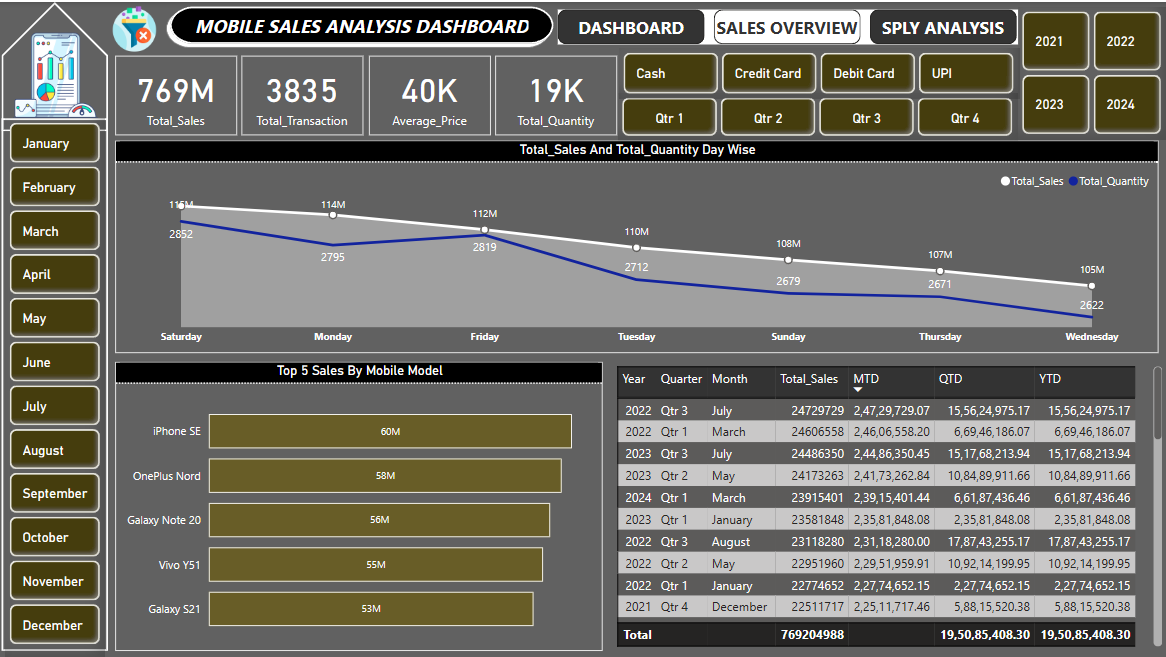

The page's visual inventory and layout, read from the dashboard file:
{"tool":"powerbi","page":{"name":"SALES OVERVIEW","canvas":[1280,720],"ordinal":1},"visuals":[{"type":"shape","box":[181.7,0,430.9,50.9],"z":0},{"type":"card","fields":{"Values":["Mobile_Sales_Data.Total_Sales"]},"box":[128,59.2,133.6,86.9],"z":1000,"group":"g1"},{"type":"shape","box":[2.8,128,116.9,584.3],"z":1000},{"type":"shape","box":[2.8,0,116.9,141.9],"z":2000},{"type":"card","fields":{"Values":["Mobile_Sales_Data.Total_Transaction"]},"box":[267.1,59.2,133.6,86.9],"z":2000,"group":"g1"},{"type":"image","box":[7,27.8,109.9,105.7],"z":3000},{"type":"card","fields":{"Values":["Mobile_Sales_Data.Average_Sales"]},"box":[406.3,59.2,133.6,86.9],"z":3000,"group":"g1"},{"type":"group","id":"g1","title":"Group 1","box":[128,59.2,550.7,86],"z":4000},{"type":"card","fields":{"Values":["Mobile_Sales_Data.Total_Quantity"]},"box":[545.4,59.2,133.6,86.9],"z":4000,"group":"g1"},{"type":"advancedSlicerVisual","fields":{"Values":["Custom_Calender.Date.Variation.Date Hierarchy.Month"]},"box":[6.9,127.6,109.8,592.8],"z":5000},{"type":"advancedSlicerVisual","fields":{"Values":["Custom_Calender.Date.Variation.Date Hierarchy.Quarter"]},"box":[678.7,100.5,439.1,52.3],"z":6000},{"type":"lineChart","title":"Total_Sales And Total_Quantity Day Wise","fields":{"Y":["Mobile_Sales_Data.Total_Sales"],"Category":["Custom_Calender.Day Name"],"Y2":["Mobile_Sales_Data.Total_Quantity"]},"box":[128,152.8,1144,232.7],"z":7000},{"type":"advancedSlicerVisual","fields":{"Values":["Mobile_Sales_Data.Payment Method"]},"box":[680.1,50.9,439.1,55.1],"z":8000},{"type":"advancedSlicerVisual","fields":{"Values":["Custom_Calender.Date.Variation.Date Hierarchy.Year"]},"box":[1116.9,5.5,163.1,145.3],"z":9000},{"type":"barChart","title":"Top 5 Sales By Mobile Model","fields":{"Y":["Mobile_Sales_Data.Total_Sales"],"Category":["Mobile_Sales_Data.Mobile Model"]},"box":[127.5,394.8,534.6,316.6],"z":10000},{"type":"image","box":[117,0,64.7,59.2],"z":11000},{"type":"tableEx","fields":{"Values":["Custom_Calender.Date.Variation.Date Hierarchy.Year","Custom_Calender.Date.Variation.Date Hierarchy.Quarter","Custom_Calender.Date.Variation.Date Hierarchy.Month","Mobile_Sales_Data.Total_Sales","Mobile_Sales_Data.MTD","Mobile_Sales_Data.QTD","Mobile_Sales_Data.YTD"]},"box":[671.7,394.8,608.6,316.6],"z":12000},{"type":"pageNavigator","box":[612.7,8.2,504.4,38.4],"z":13000}]}

Visuals, with their boxes in screenshot pixels (x1, y1, x2, y2), scaled from the page's 1280x720 canvas onto the 1166x657 screenshot:
shape: crop(166, 0, 558, 46)
card - Mobile_Sales_Data.Total_Sales: crop(117, 54, 238, 133)
shape: crop(3, 117, 109, 650)
shape: crop(3, 0, 109, 129)
card - Mobile_Sales_Data.Total_Transaction: crop(243, 54, 365, 133)
image: crop(6, 25, 106, 122)
card - Mobile_Sales_Data.Average_Sales: crop(370, 54, 492, 133)
"Group 1" group: crop(117, 54, 618, 132)
card - Mobile_Sales_Data.Total_Quantity: crop(497, 54, 619, 133)
advancedSlicerVisual - Custom_Calender.Date.Variation.Date Hierarchy.Month: crop(6, 116, 106, 656)
advancedSlicerVisual - Custom_Calender.Date.Variation.Date Hierarchy.Quarter: crop(618, 92, 1018, 139)
"Total_Sales And Total_Quantity Day Wise" lineChart: crop(117, 139, 1159, 352)
advancedSlicerVisual - Mobile_Sales_Data.Payment Method: crop(620, 46, 1020, 97)
advancedSlicerVisual - Custom_Calender.Date.Variation.Date Hierarchy.Year: crop(1017, 5, 1165, 138)
"Top 5 Sales By Mobile Model" barChart: crop(116, 360, 603, 649)
image: crop(107, 0, 166, 54)
tableEx - Custom_Calender.Date.Variation.Date Hierarchy.Year x Custom_Calender.Date.Variation.Date Hierarchy.Quarter: crop(612, 360, 1165, 649)
pageNavigator: crop(558, 7, 1018, 43)
